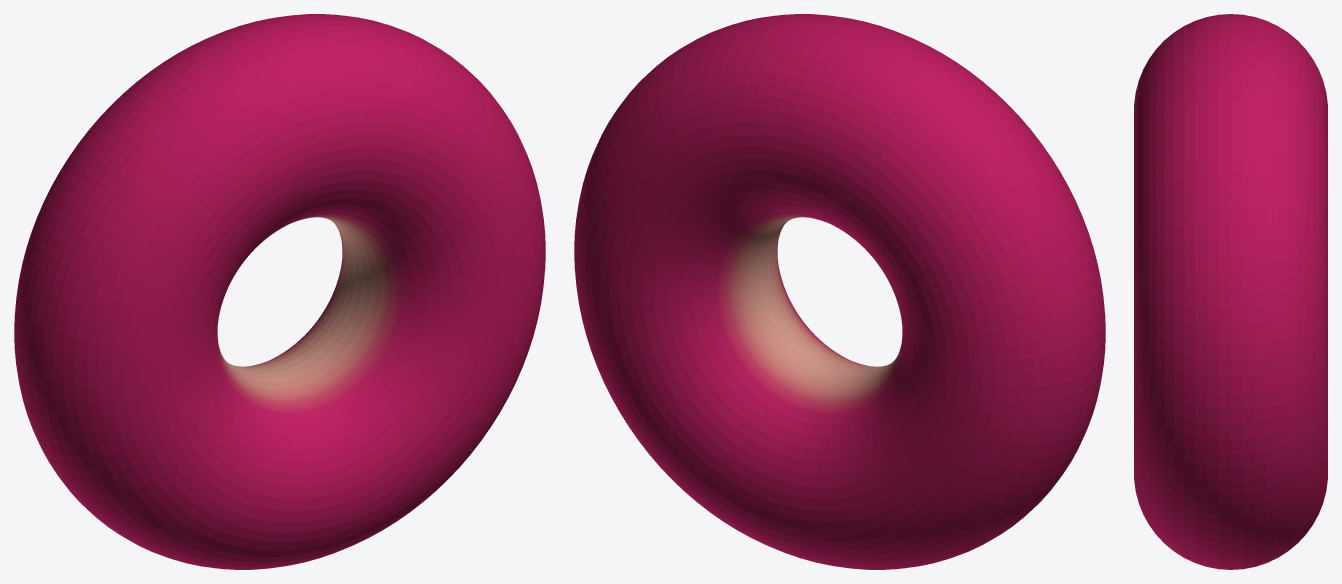
The picture shows the model from 3 angles, left to right: view 1: azimuth 30°, elevation 25°; view 2: azimuth 150°, elevation 25°; view 3: azimuth 270°, elevation 25°; orthographic projection. The views are drawn at different scales.
Visible parts, largest first — view 1: world; view 2: world; view 3: world.
Part boxes in pixels (<box>): world: <box>14,14,545,569</box>; world: <box>574,14,1105,569</box>; world: <box>1134,14,1327,569</box>.
Size of the model in its own units: 19.47 by 19.47 by 6.79.
